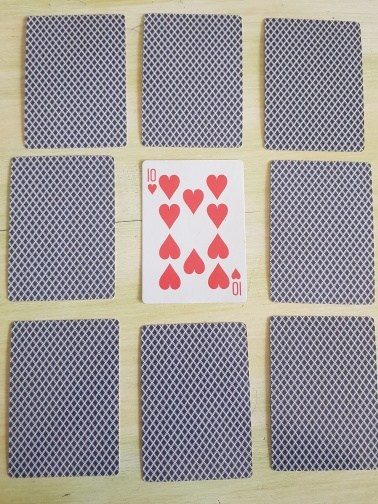ten: (140, 159, 249, 305)
